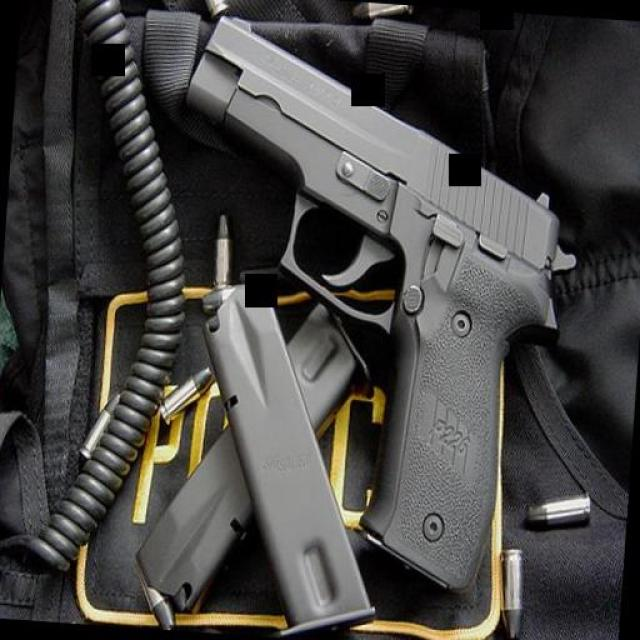gun: (147, 7, 585, 605)
